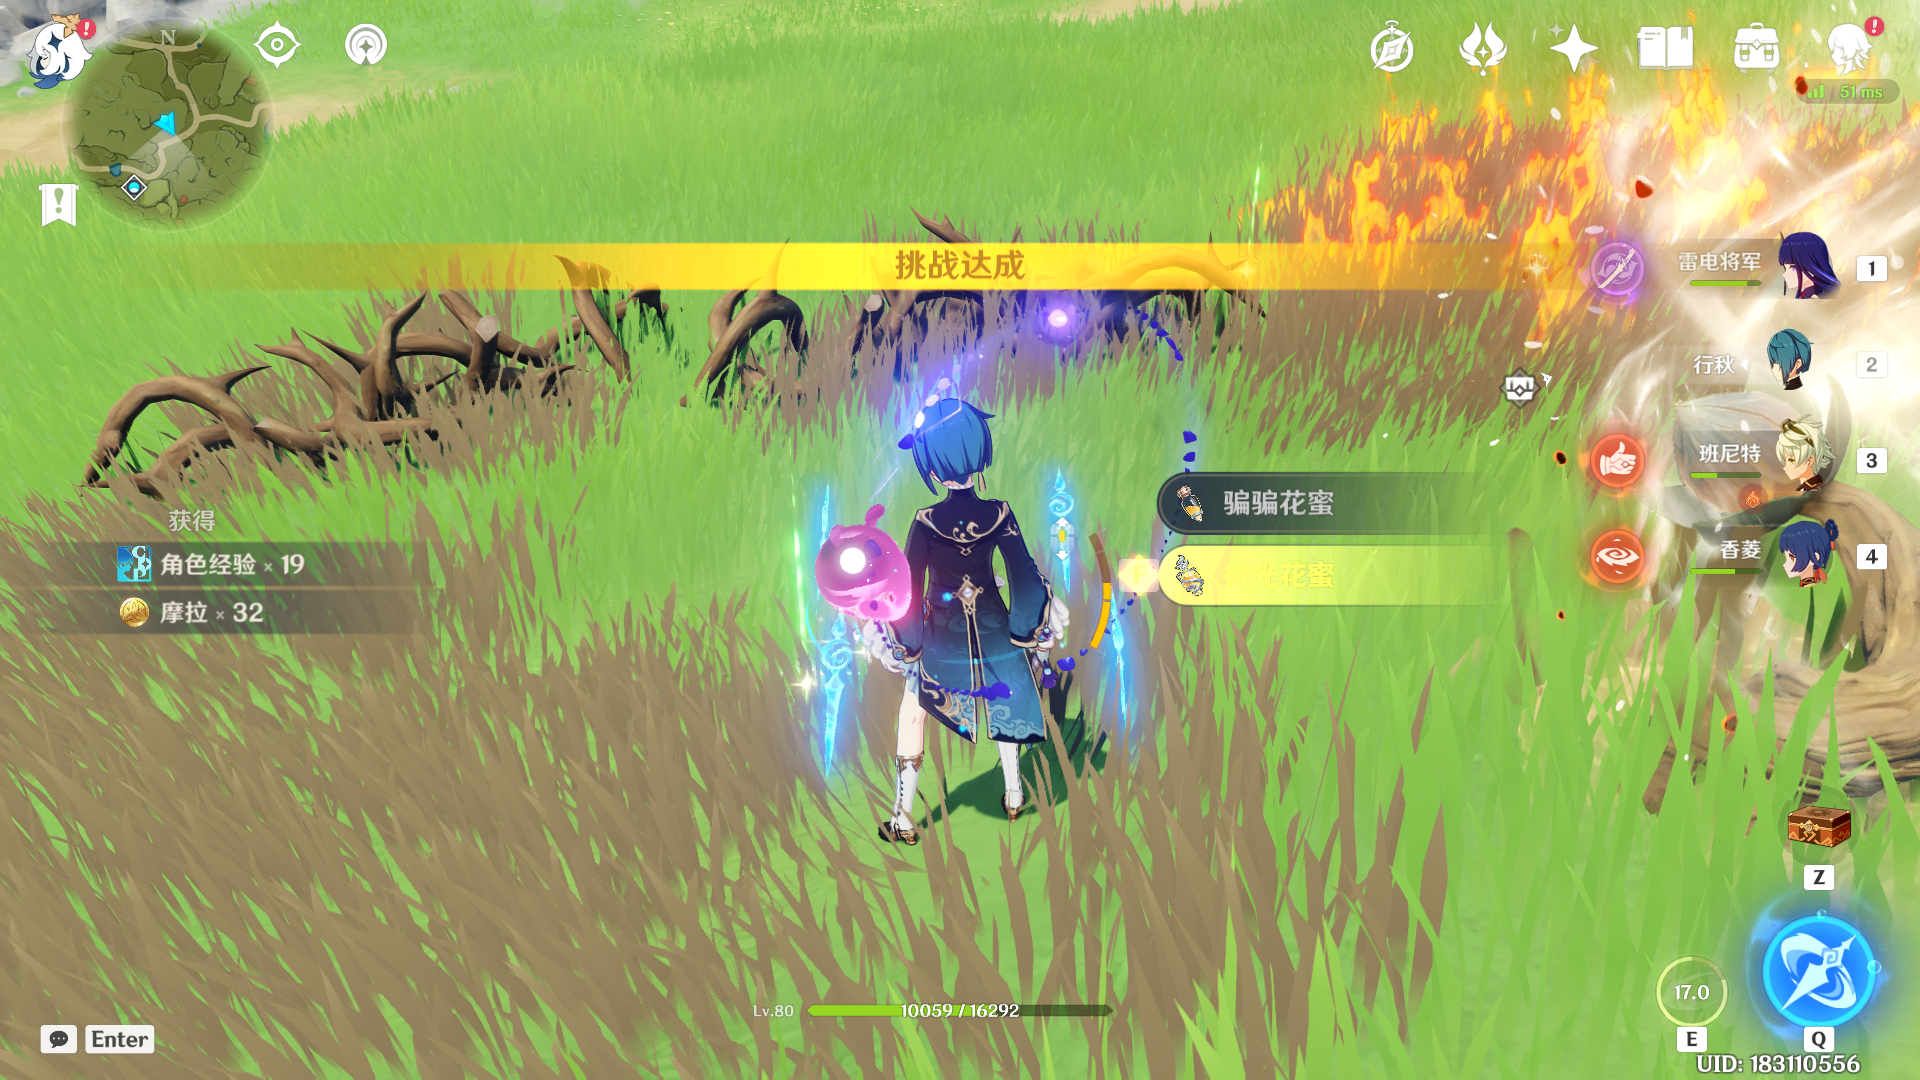character: (781, 380, 1118, 873)
